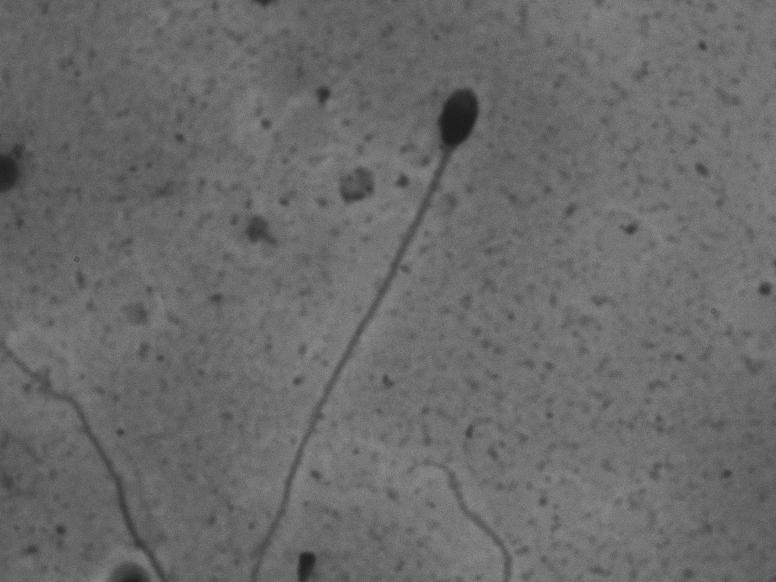Normal: (237, 74, 500, 574)
